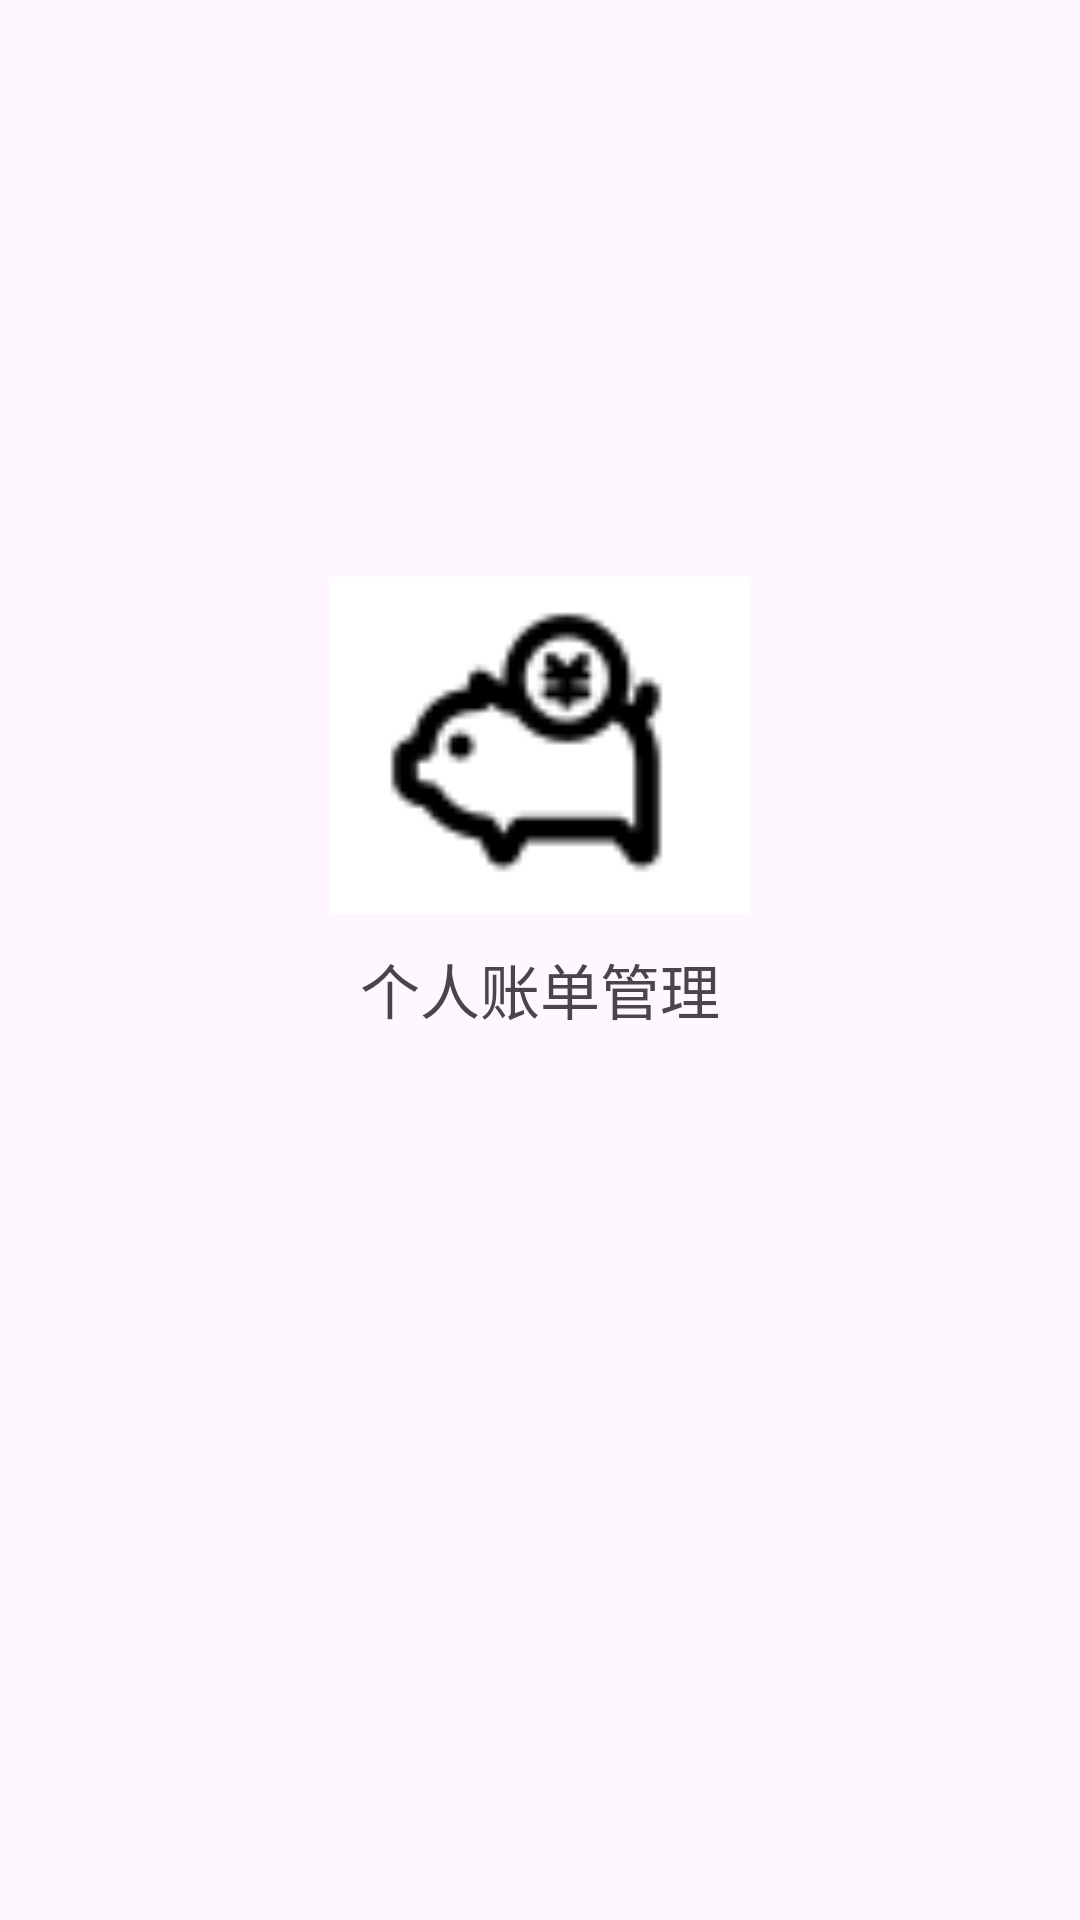

Icons on this 1080w x 1920h Android screen, each with the point to tap as (x=x, y=y):
mainicon: (x=526, y=742)
